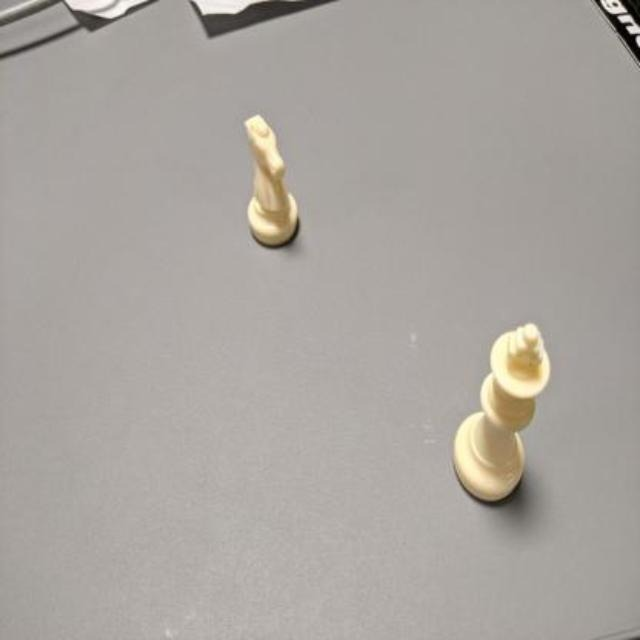white-king: (450, 321, 551, 502)
white-knight: (244, 113, 300, 248)
